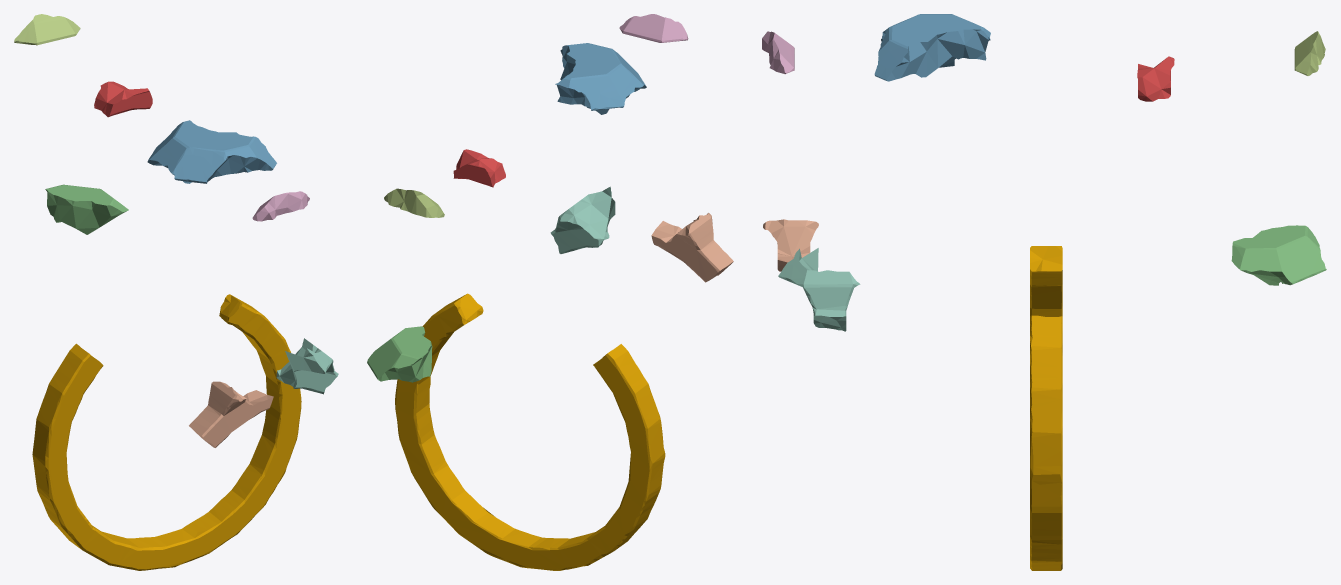
Rendered from mode_19_8pcs_transformed.glb.
3 renders of one model, left to right at view 1: azimuth 30°, elevation 25°; view 2: azimuth 150°, elevation 25°; view 3: azimuth 270°, elevation 25°, orthographic. The views are drawn at different scales.
Parts seen in each view (by area): view 1: piece_0.obj, piece_2.obj, piece_7.obj, piece_3.obj, piece_4.obj, piece_1.obj, piece_5.obj, piece_6.obj; view 2: piece_0.obj, piece_2.obj, piece_7.obj, piece_4.obj, piece_3.obj, piece_6.obj, piece_1.obj, piece_5.obj; view 3: piece_0.obj, piece_2.obj, piece_3.obj, piece_4.obj, piece_7.obj, piece_1.obj, piece_5.obj, piece_6.obj.
Part boxes in pixels (<box>): piece_0.obj: <box>32,294,301,570</box>; piece_2.obj: <box>147,120,276,183</box>; piece_7.obj: <box>189,381,273,447</box>; piece_3.obj: <box>45,184,128,234</box>; piece_4.obj: <box>276,338,338,394</box>; piece_1.obj: <box>94,81,152,117</box>; piece_5.obj: <box>14,14,80,45</box>; piece_6.obj: <box>252,191,309,221</box>; piece_0.obj: <box>395,293,665,570</box>; piece_2.obj: <box>555,43,646,114</box>; piece_7.obj: <box>651,213,733,282</box>; piece_4.obj: <box>550,186,615,253</box>; piece_3.obj: <box>367,326,432,382</box>; piece_6.obj: <box>619,14,688,42</box>; piece_1.obj: <box>453,149,505,187</box>; piece_5.obj: <box>384,188,444,217</box>; piece_0.obj: <box>1030,246,1062,570</box>; piece_2.obj: <box>874,14,990,81</box>; piece_3.obj: <box>1231,225,1326,285</box>; piece_4.obj: <box>778,248,860,331</box>; piece_7.obj: <box>763,219,818,271</box>; piece_1.obj: <box>1137,56,1174,101</box>; piece_5.obj: <box>1294,31,1325,75</box>; piece_6.obj: <box>762,31,794,74</box>.
Bounding box in the file's own units: 0.925 × 1.6 × 1.57.
